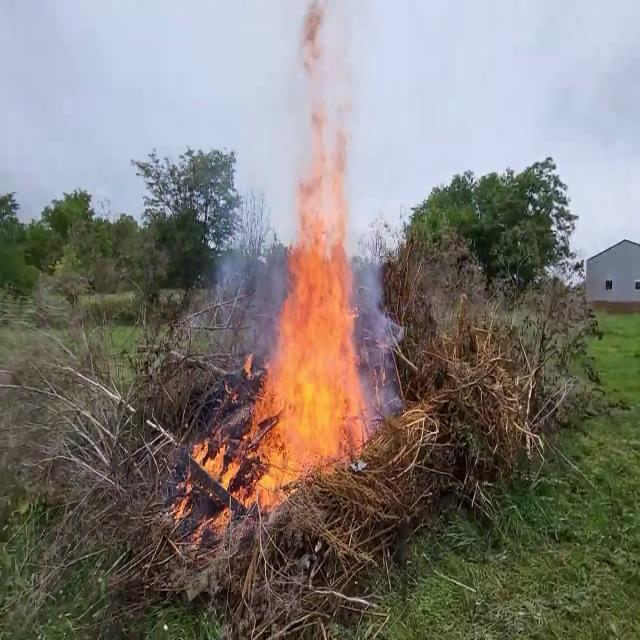Fire: (186, 163, 384, 532), (232, 174, 382, 492)
